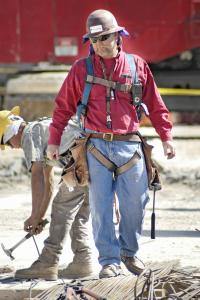boots: (15, 259, 59, 280), (58, 261, 97, 279), (120, 254, 145, 274), (99, 262, 125, 278)
hard-hat: (0, 109, 24, 145)
person: (46, 8, 176, 279), (1, 106, 100, 280)
